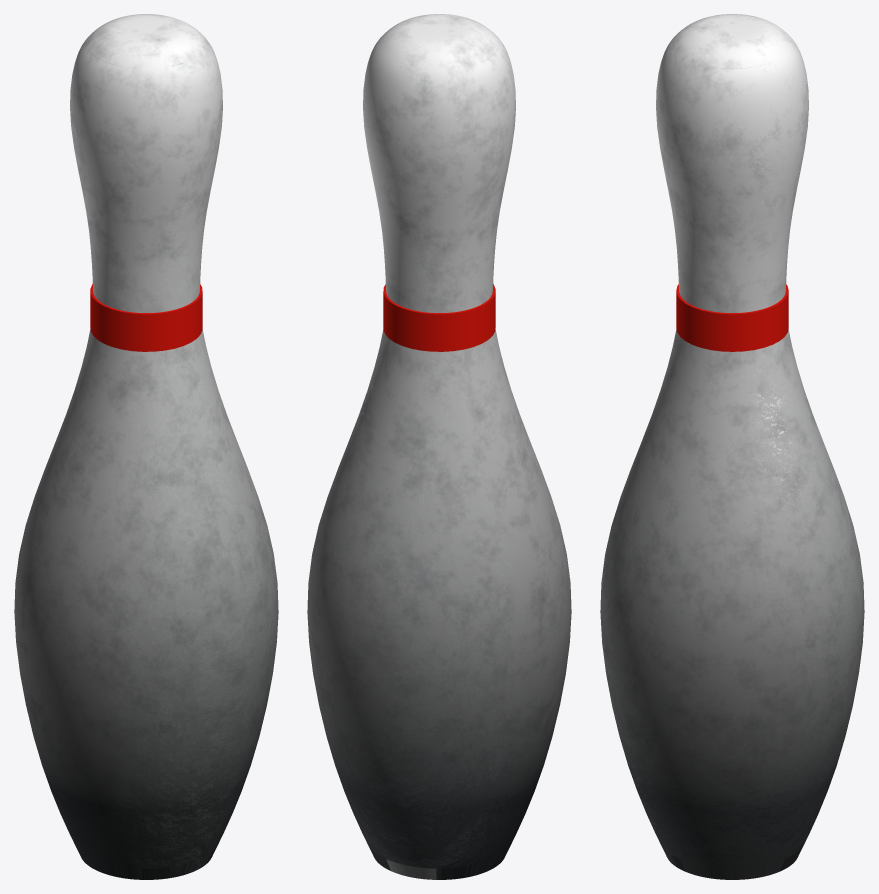
File: Pin.fbx
3 views of the same model, side by side, from view 1: azimuth 30°, elevation 25°; view 2: azimuth 150°, elevation 25°; view 3: azimuth 270°, elevation 25° (orthographic).
Parts seen in each view (by area): view 1: Pin, Cylinder; view 2: Pin, Cylinder; view 3: Pin, Cylinder.
Part boxes in pixels (x1,y1,x2,y2): Pin: [14, 14, 278, 879]; Cylinder: [90, 284, 202, 351]; Pin: [307, 14, 571, 879]; Cylinder: [383, 284, 495, 351]; Pin: [600, 14, 864, 879]; Cylinder: [676, 284, 788, 351].
Size of the model in its own units: 323 by 1111 by 323.
Materials: 2 (1 with a texture image).
